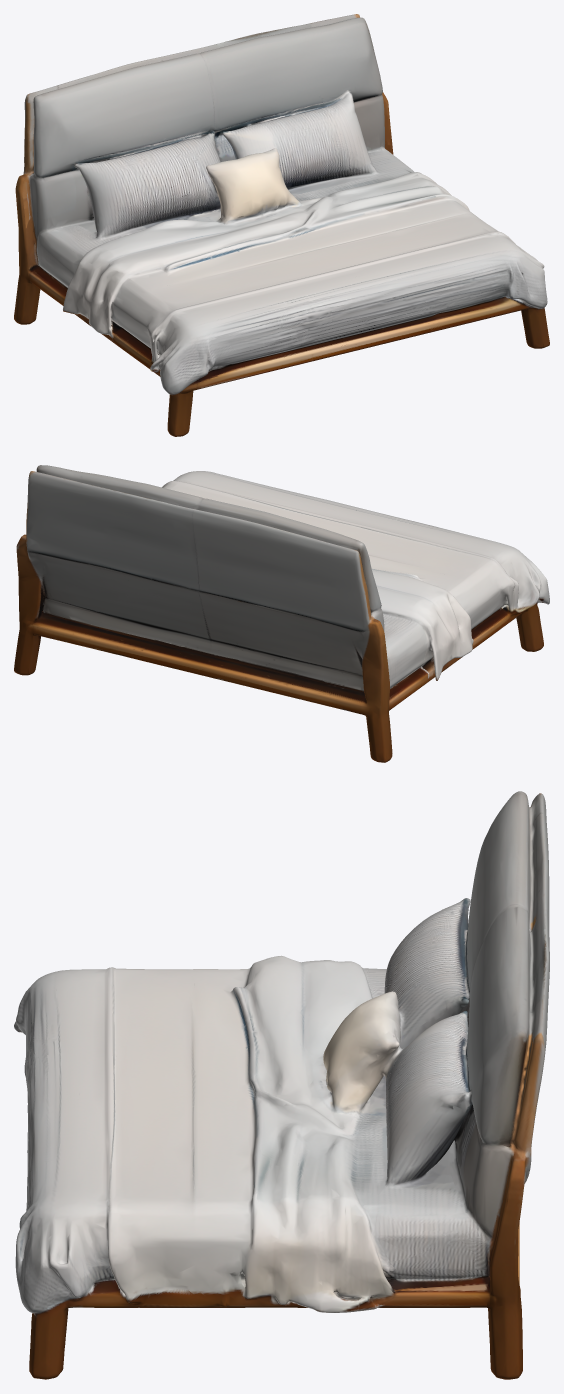
File: bed.fbx
3 views of the same model, one above another, from view 1: azimuth 30°, elevation 25°; view 2: azimuth 150°, elevation 25°; view 3: azimuth 270°, elevation 25° (orthographic). The views are drawn at different scales.
Parts seen in each view (by area): view 1: texture_v100; view 2: texture_v100; view 3: texture_v100.
Part boxes in pixels (x1,y1,x2,y2): texture_v100: (14, 14, 549, 436); texture_v100: (14, 465, 549, 762); texture_v100: (14, 791, 549, 1379).
Bounding box in the file's own units: 88.84 × 49.08 × 70.61.
1 material, 1 textured.
